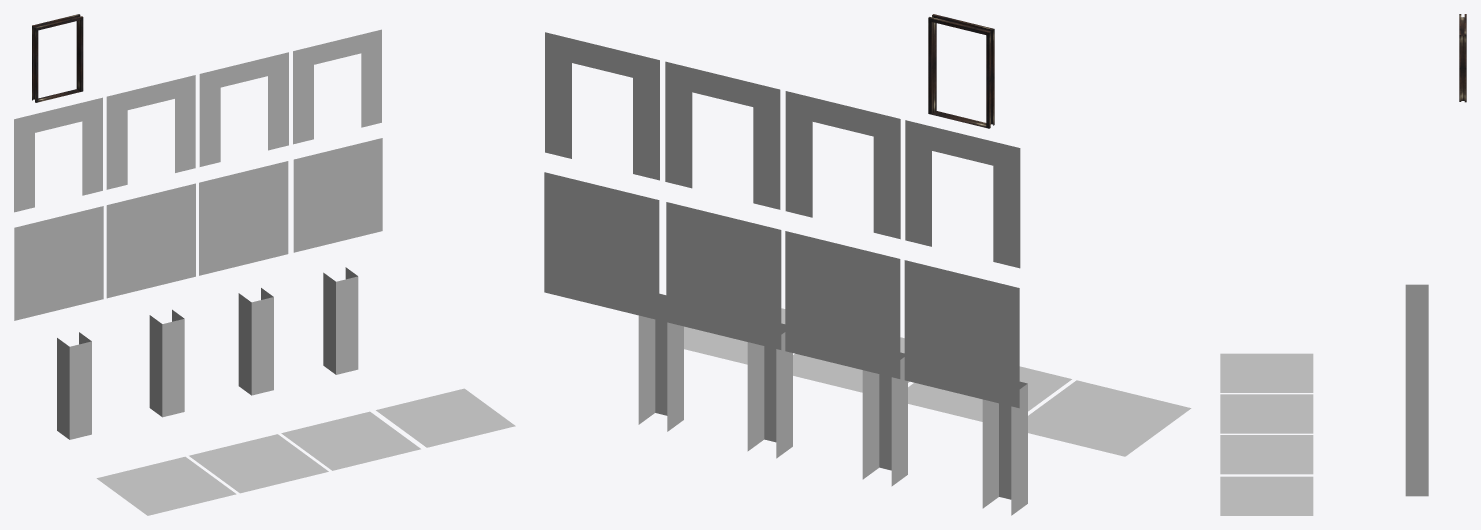
File: SchoolModular.FBX
3 views of the same model, side by side, from view 1: azimuth 30°, elevation 25°; view 2: azimuth 150°, elevation 25°; view 3: azimuth 270°, elevation 25° (orthographic). The views are drawn at different scales.
Visible parts, largest first — view 1: Wall01, Wall02, Wall03, Wall04, Wall03_Doorway, Wall02_Doorway, Wall01_Doorway, Wall04_Doorway, Floor01, Floor02, Floor03, Floor04 (+5 smaller); view 2: Wall01, Wall03, Wall02, Wall04, Wall02_Doorway, Wall03_Doorway, Wall01_Doorway, Wall04_Doorway, Floor01, Wall01_Pilar, Wall04_Pilar, Wall02_Pilar (+5 smaller); view 3: Floor02, Floor01, Floor03, Floor04, Wall04_Pilar, Wall01_Pilar, Wall02_Pilar, Wall03_Pilar, DoorFrame.
Part boxes in pixels (x1,y1,x2,y2): Wall01: (14,206,103,320); Wall02: (106,183,195,298); Wall03: (199,161,288,275); Wall04: (293,138,382,252); Wall03_Doorway: (199,52,288,166); Wall02_Doorway: (106,75,195,189); Wall01_Doorway: (14,97,102,212); Wall04_Doorway: (293,29,381,144); Floor01: (96,456,236,515); Floor02: (189,434,328,493); Floor03: (281,411,420,470); Floor04: (376,388,515,447); Wall01: (904,260,1019,408); Wall03: (666,202,781,349); Wall02: (785,231,900,378); Wall04: (544,172,659,320); Wall02_Doorway: (785,91,900,239); Wall03_Doorway: (665,61,780,209); Wall01_Doorway: (905,120,1020,268); Wall04_Doorway: (545,32,659,180); Floor01: (1028,380,1191,456); Wall01_Pilar: (982,381,1027,515); Wall04_Pilar: (638,293,683,431); Wall02_Pilar: (862,352,907,486); Floor02: (1220,394,1313,433); Floor01: (1220,353,1313,392); Floor03: (1220,435,1313,474); Floor04: (1220,476,1313,515); Wall04_Pilar: (1405,402,1428,496); Wall01_Pilar: (1405,284,1428,325); Wall02_Pilar: (1405,325,1428,364); Wall03_Pilar: (1405,365,1428,401); DoorFrame: (1459,14,1466,102).
Size of the model in its own units: 326 by 330 by 209.
